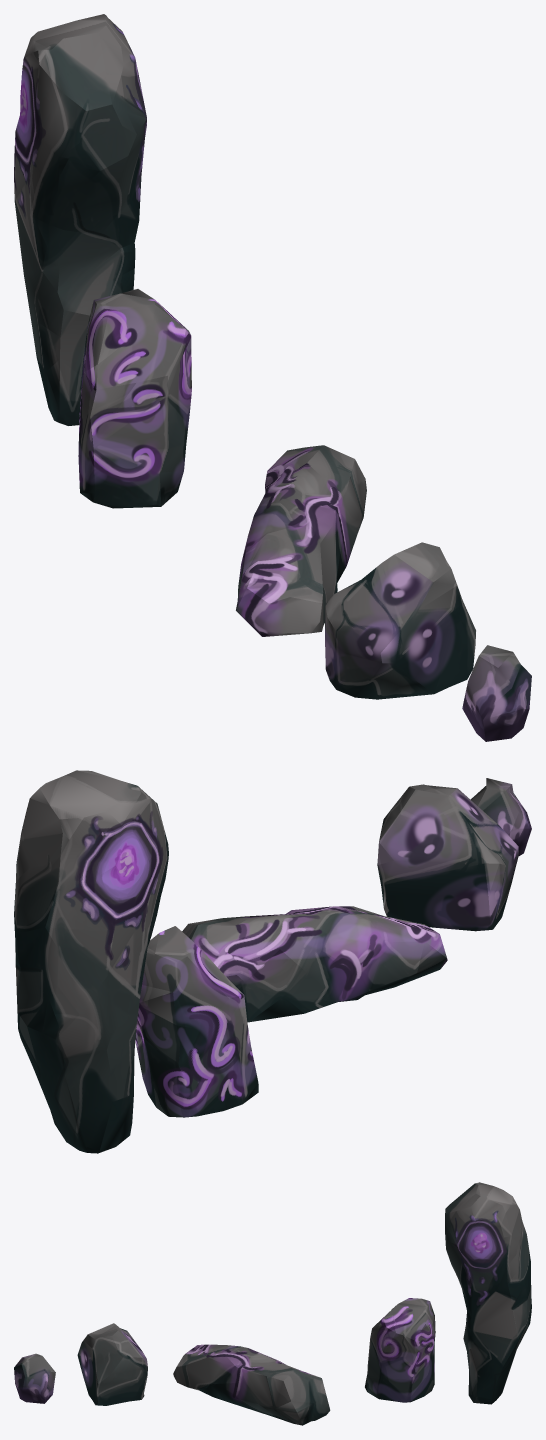
The model's file is New runes.fbx.
The picture shows the model from 3 angles, top to bottom: view 1: azimuth 30°, elevation 25°; view 2: azimuth 150°, elevation 25°; view 3: azimuth 270°, elevation 25°; orthographic projection. The views are drawn at different scales.
Visible parts, largest first — view 1: StylRocksMagic_1_LOD2, StylRocksMagic_3_LOD2, StylRocksMagic_4_LOD2, StylRocksMagic_2_LOD2, StylRocksMagic_5_LOD2; view 2: StylRocksMagic_1_LOD2, StylRocksMagic_2_LOD2, StylRocksMagic_3_LOD2, StylRocksMagic_4_LOD2, StylRocksMagic_5_LOD2; view 3: StylRocksMagic_1_LOD2, StylRocksMagic_2_LOD2, StylRocksMagic_3_LOD2, StylRocksMagic_4_LOD2, StylRocksMagic_5_LOD2.
Boxes of the visible parts, x1=… form: StylRocksMagic_1_LOD2: x1=14, y1=14, x2=146, y2=425; StylRocksMagic_3_LOD2: x1=78, y1=289, x2=191, y2=508; StylRocksMagic_4_LOD2: x1=325, y1=542, x2=475, y2=699; StylRocksMagic_2_LOD2: x1=236, y1=445, x2=366, y2=636; StylRocksMagic_5_LOD2: x1=462, y1=645, x2=531, y2=741; StylRocksMagic_1_LOD2: x1=14, y1=770, x2=168, y2=1153; StylRocksMagic_2_LOD2: x1=182, y1=906, x2=447, y2=1022; StylRocksMagic_3_LOD2: x1=135, y1=926, x2=258, y2=1117; StylRocksMagic_4_LOD2: x1=377, y1=784, x2=518, y2=931; StylRocksMagic_5_LOD2: x1=470, y1=778, x2=531, y2=855; StylRocksMagic_1_LOD2: x1=445, y1=1182, x2=531, y2=1404; StylRocksMagic_2_LOD2: x1=173, y1=1344, x2=330, y2=1425; StylRocksMagic_3_LOD2: x1=365, y1=1298, x2=435, y2=1402; StylRocksMagic_4_LOD2: x1=77, y1=1323, x2=147, y2=1405; StylRocksMagic_5_LOD2: x1=14, y1=1353, x2=55, y2=1403.
Size of the model in its own units: 14.08 by 23.77 by 53.19.
